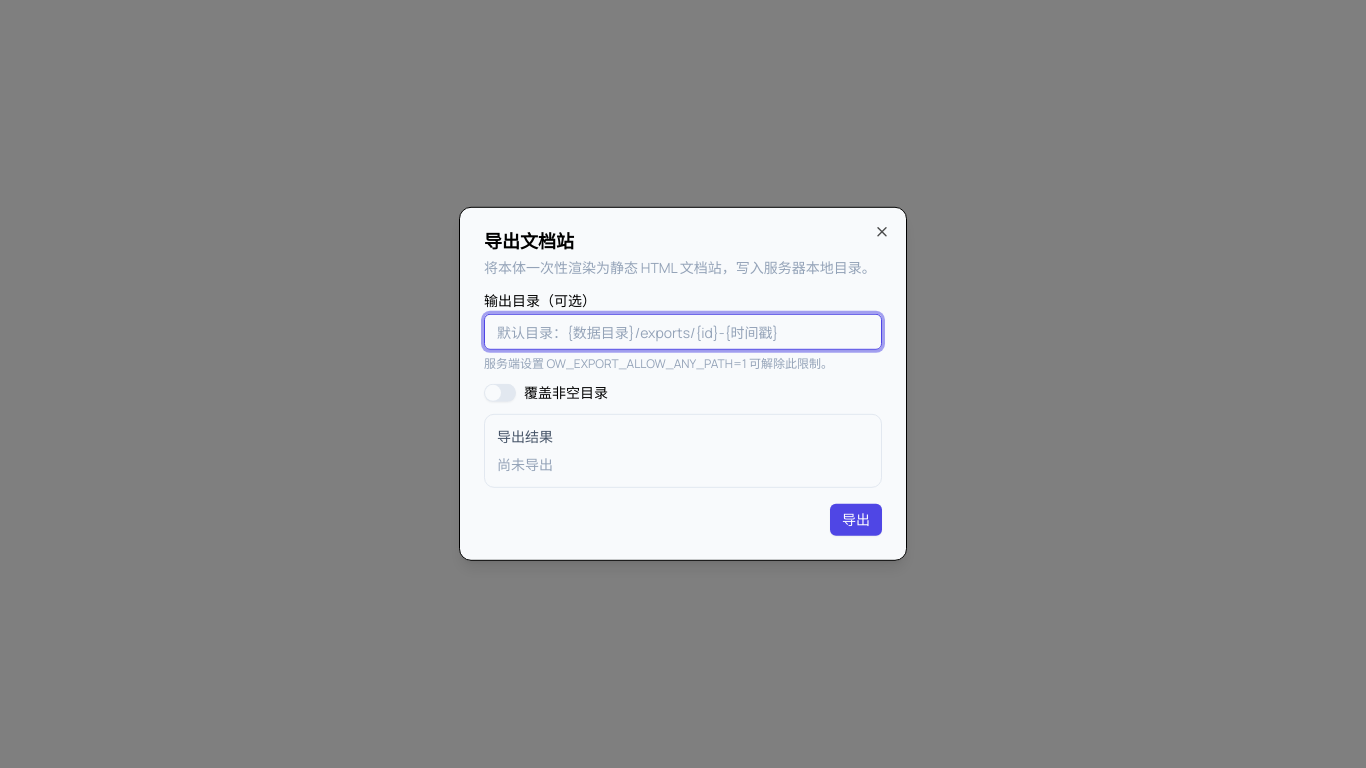
Test: ExportDialog › clears the success card when a resubmit fails
This screenshot has width=1366, height=768.
Click the button "导出". click: coordinates (856, 520)
box: [830, 504, 882, 536]
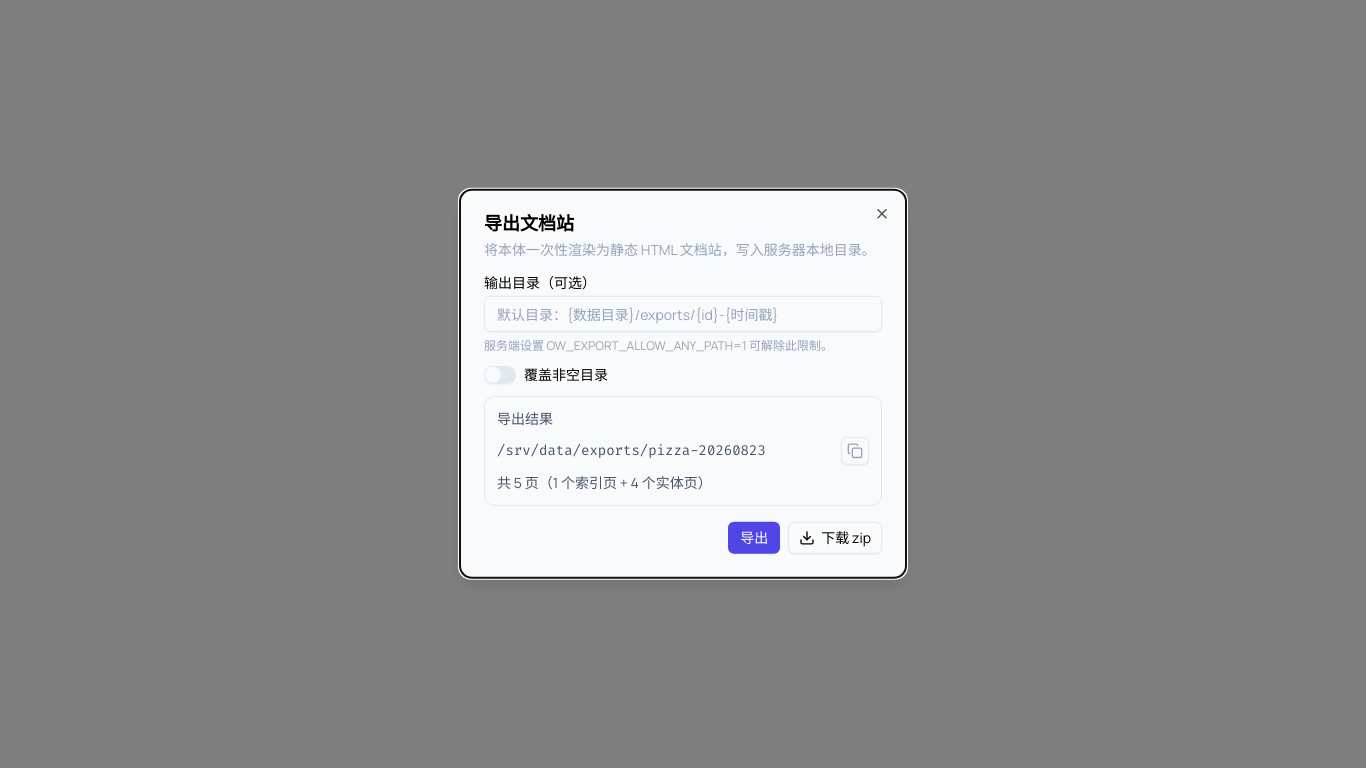
Check: the text "/srv/data/exports/pizza-20260823" is shown, box [497, 441, 766, 460]
Click the button "导出". click: coordinates (754, 538)
box: [728, 522, 780, 554]
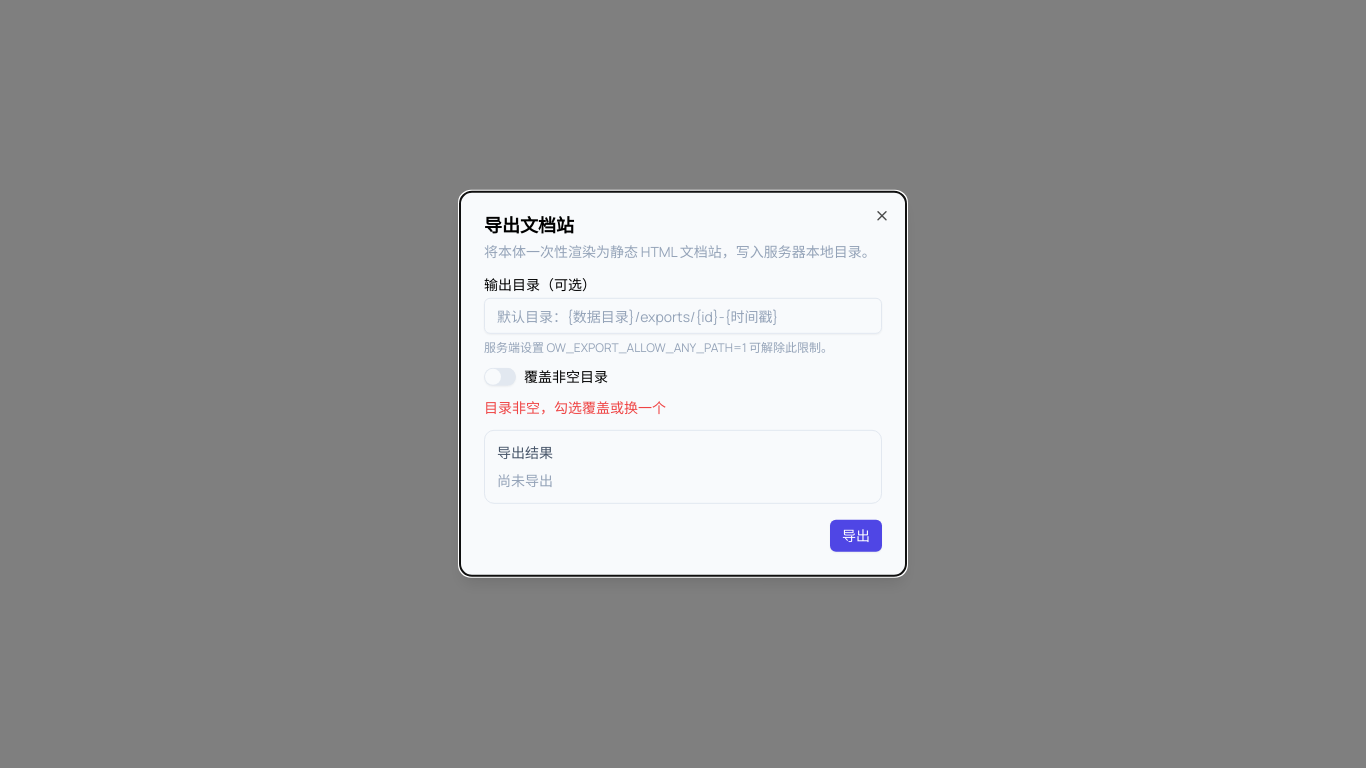
Check: the message "目录非空，勾选覆盖或换一个" is shown, box [484, 398, 666, 417]
Check: the text "/srv/data/exports/pizza-20260823" is gone
Check: the text "共 5 页（1 个索引页 + 4 个实体页）" is gone
